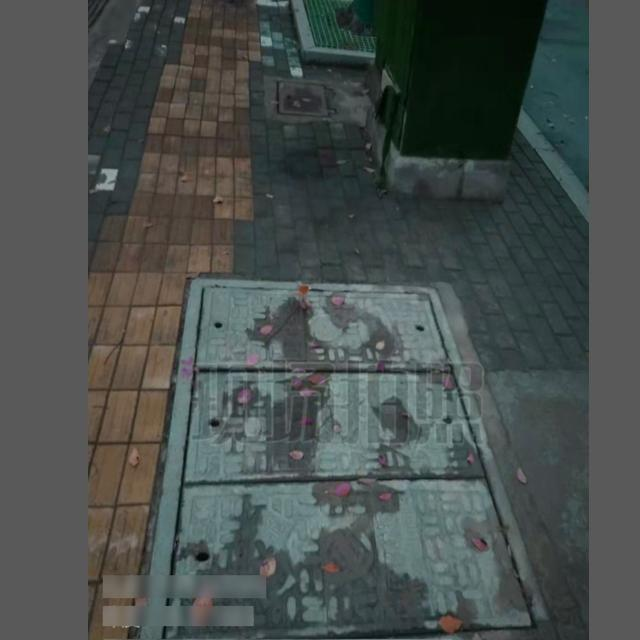good: (134, 275, 547, 640)
